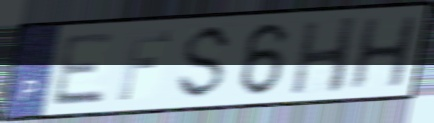6: (234, 20, 292, 98)
E: (48, 29, 119, 108)
F: (115, 29, 174, 103)
H: (288, 14, 361, 97), (345, 13, 419, 92)
S: (173, 22, 237, 103)
